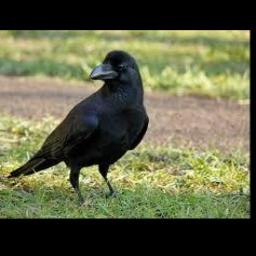Crow: (8, 49, 148, 204)
